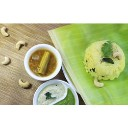venpongal: (84, 43, 126, 80)
